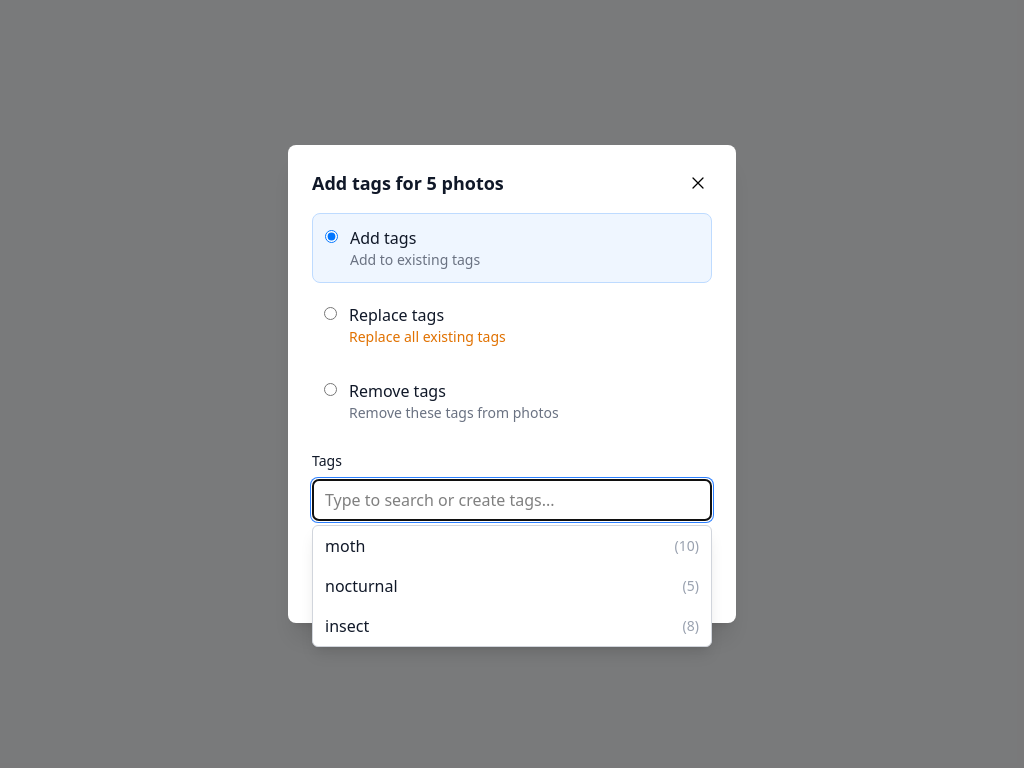
it: BulkTagModal › Mode Selector › title updates when mode changes
Expected: the heading "Add tags for 5 photos" is shown, [312,169,504,197]
# Change to Replace
Click the radio button labelled "Replace tags Replace all existing tags" at point(330, 314), box [324,307,337,320]
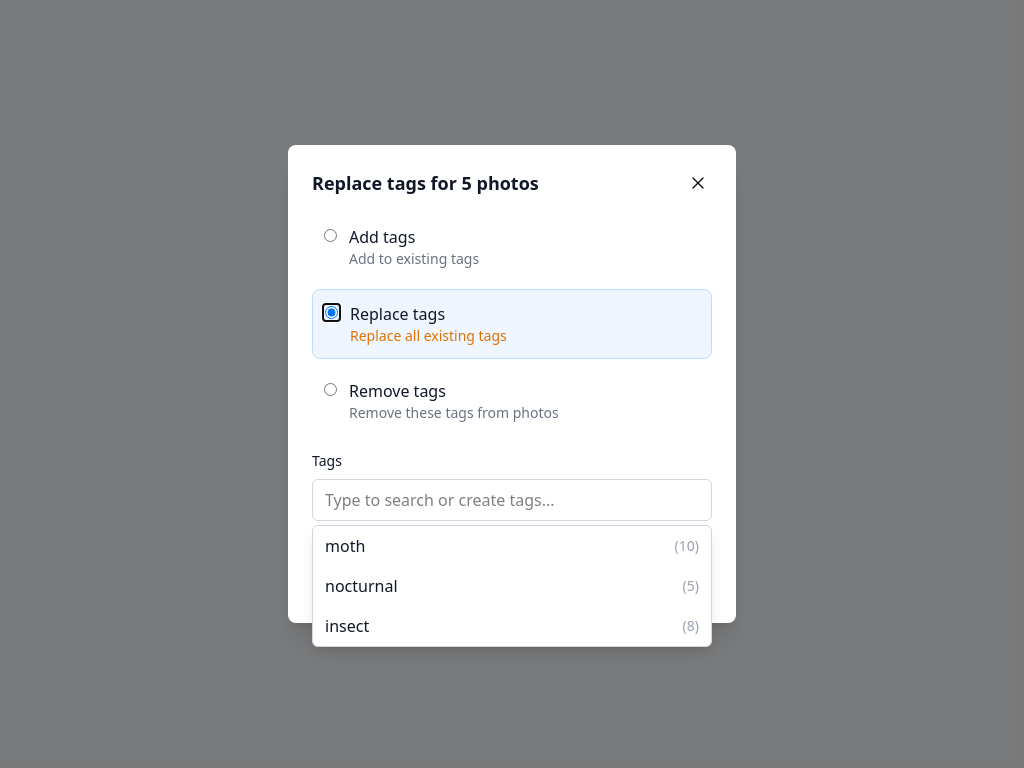
Expected: the heading "Replace tags for 5 photos" is shown, [312,169,539,197]
# Change to Remove
Click the radio button labelled "Remove tags Remove these tags from photos" at point(330, 390), box [324,383,337,396]
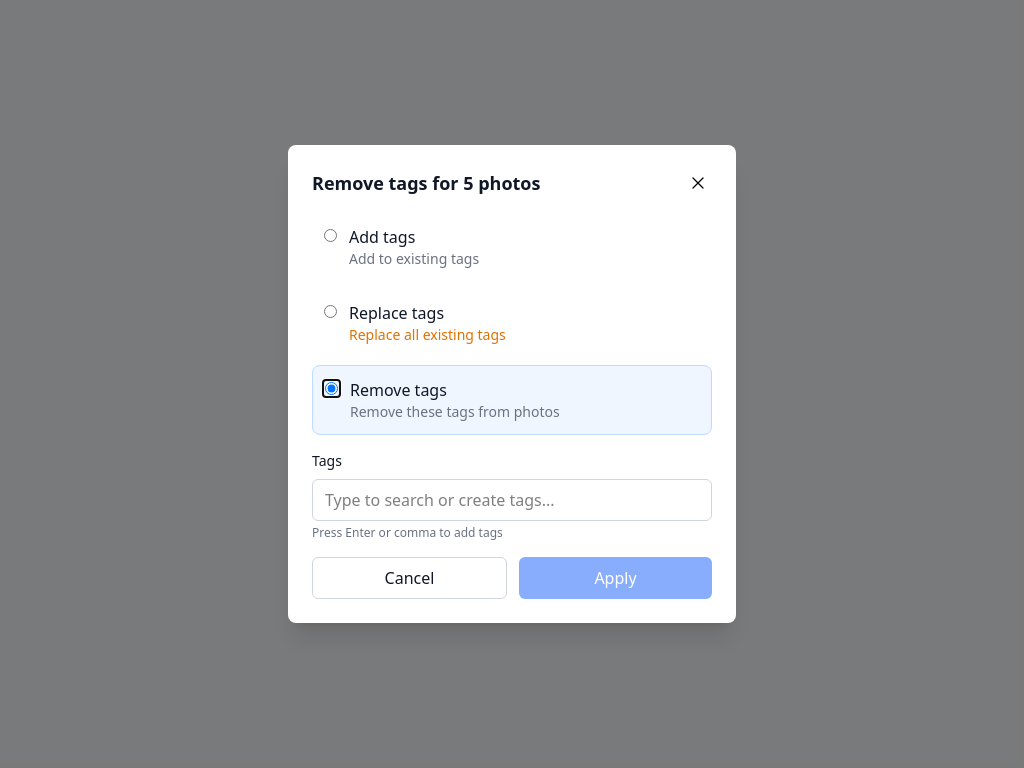
Expected: the heading "Remove tags for 5 photos" is shown, [312,169,540,197]
